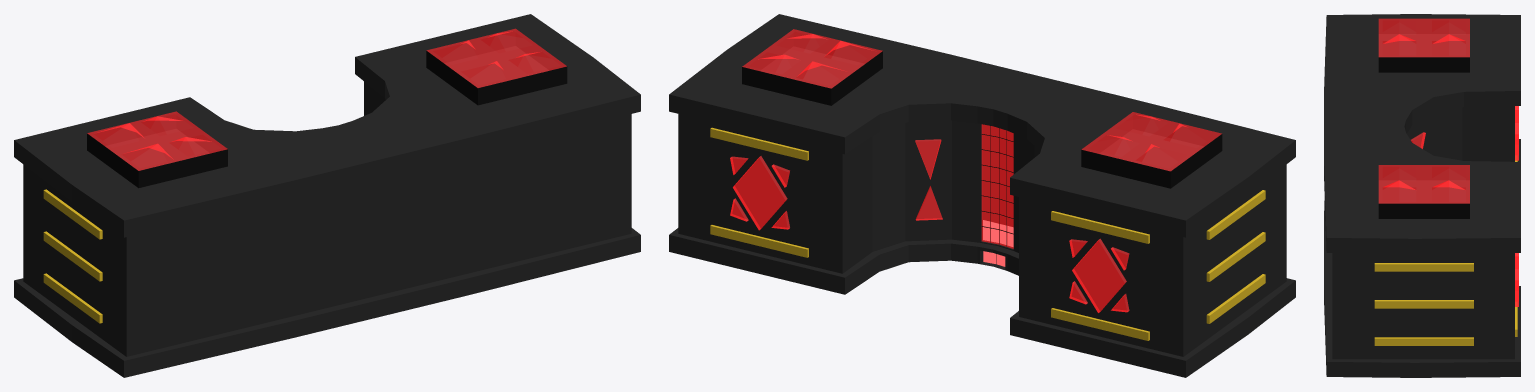
File: enemyBuilding.fbx
3 renders of one model, left to right at view 1: azimuth 30°, elevation 25°; view 2: azimuth 150°, elevation 25°; view 3: azimuth 270°, elevation 25°, orthographic. The views are drawn at different scales.
Parts seen in each view (by area): view 1: enemyBuilding; view 2: enemyBuilding; view 3: enemyBuilding.
Boxes of the visible parts, x1,y1,x2,y2 form: enemyBuilding: (14, 14, 640, 377); enemyBuilding: (669, 14, 1295, 377); enemyBuilding: (1324, 14, 1520, 377).
Size of the model in its own units: 7465 by 2543 by 2760.
